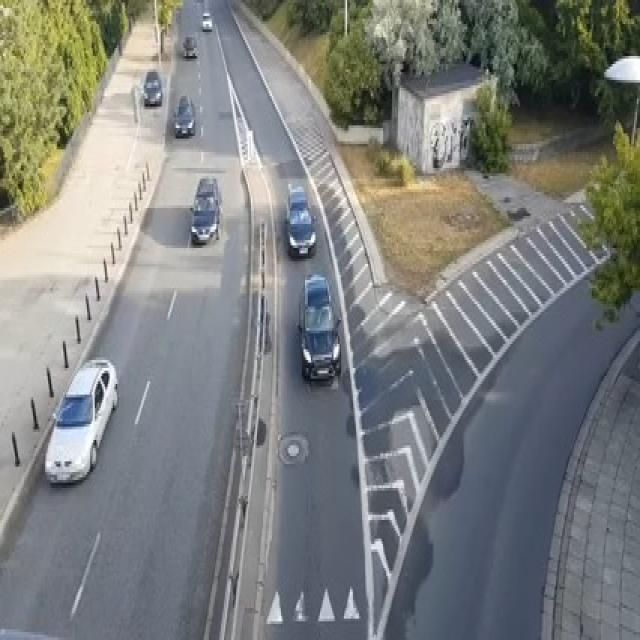car: (44, 355, 117, 485), (297, 272, 341, 381), (189, 173, 221, 246), (286, 181, 316, 256), (173, 93, 195, 136), (141, 69, 162, 107), (182, 35, 197, 56), (201, 11, 212, 29)
